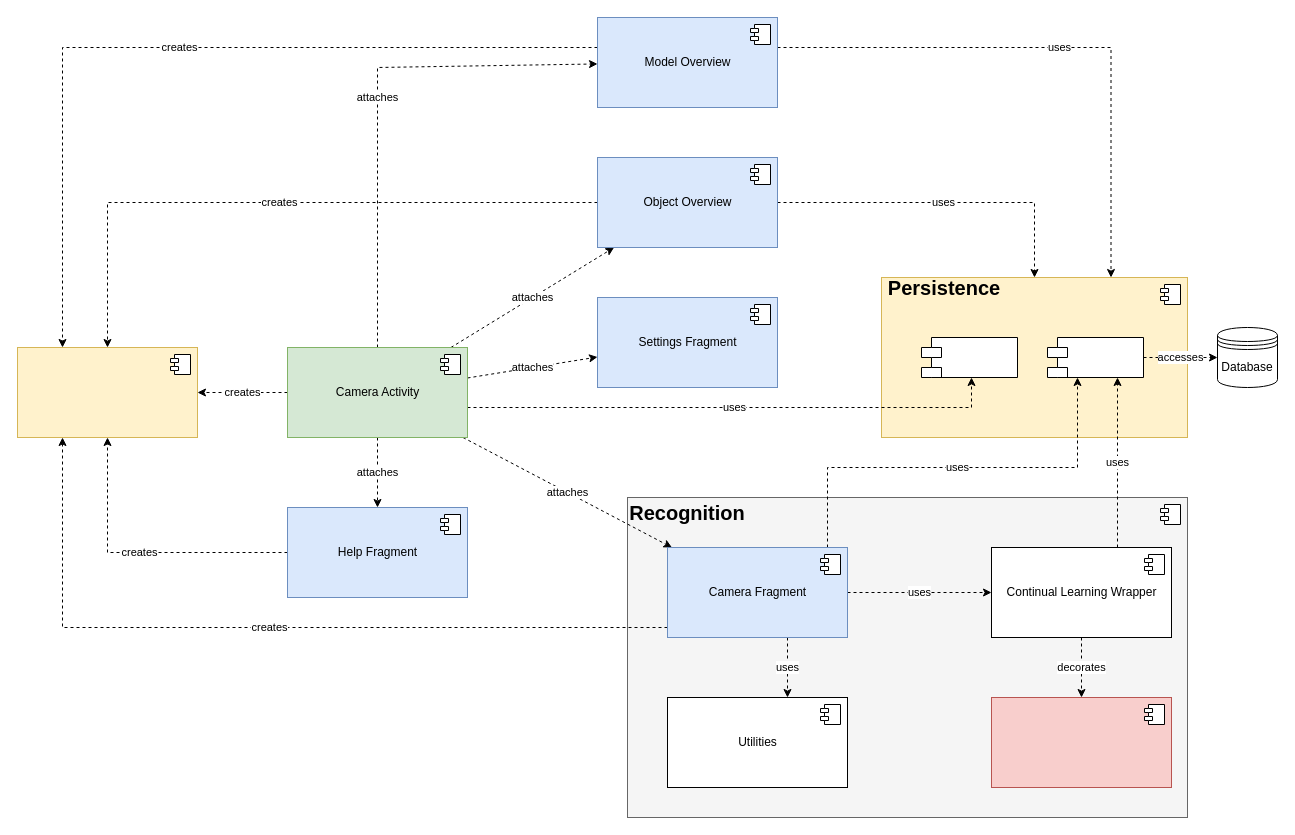
This 1295x835 diagram has some shape labels left out. Each missing label, with the centre of its shape:
"Database Helper" belongs at point 1095,357.
"Dialogs" belongs at point 107,392.
"Global Configuration" belongs at point 969,357.
"Transfer Learning API" belongs at point 1081,742.
